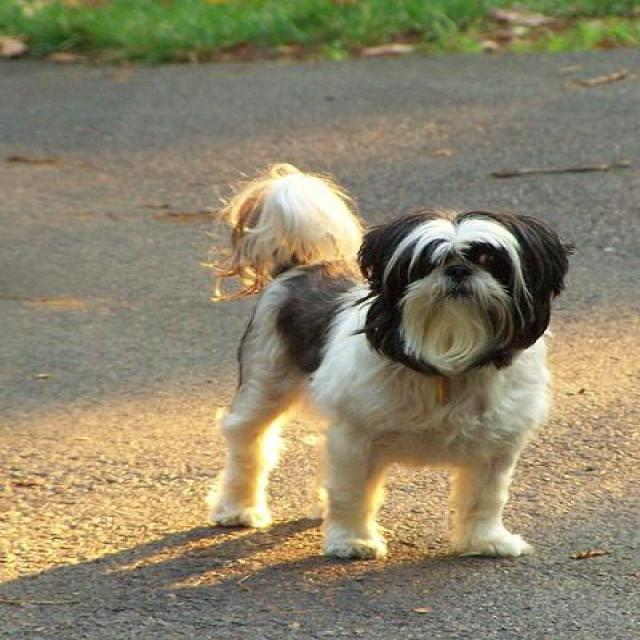shih_tzu: (213, 166, 573, 564)
